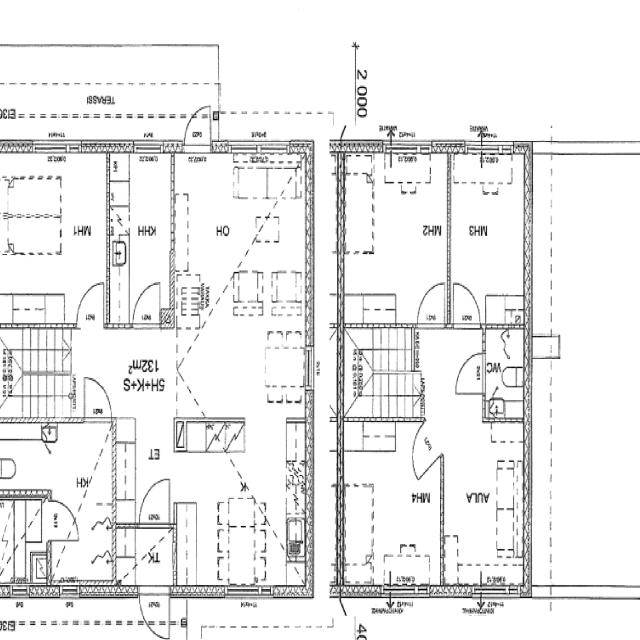door: (139, 585, 169, 640), (139, 478, 169, 528), (184, 100, 210, 153), (132, 282, 160, 328), (46, 502, 78, 542), (455, 354, 486, 394), (84, 377, 111, 422), (453, 284, 480, 329), (417, 284, 444, 329), (77, 283, 103, 328)
